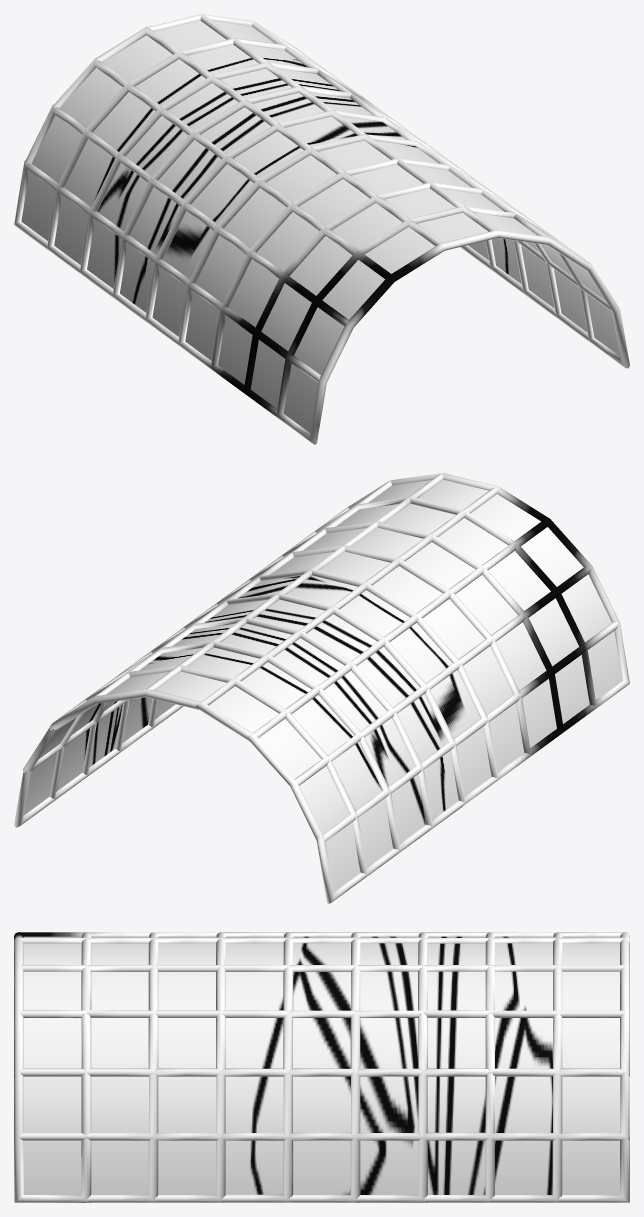
3 renders of one model, top to bottom at view 1: azimuth 30°, elevation 25°; view 2: azimuth 150°, elevation 25°; view 3: azimuth 270°, elevation 25°, orthographic. The views are drawn at different scales.
Parts seen in each view (by area): view 1: Cylinder003, aho; view 2: Cylinder003, aho; view 3: Cylinder003, aho.
Boxes of the visible parts, x1,y1,x2,y2 form: Cylinder003: [21, 20, 619, 432]; aho: [14, 14, 629, 444]; Cylinder003: [23, 479, 622, 891]; aho: [14, 473, 629, 903]; Cylinder003: [23, 936, 620, 1194]; aho: [14, 932, 629, 1202].
Bounding box in the file's own units: 4216 × 6864 × 2123.
